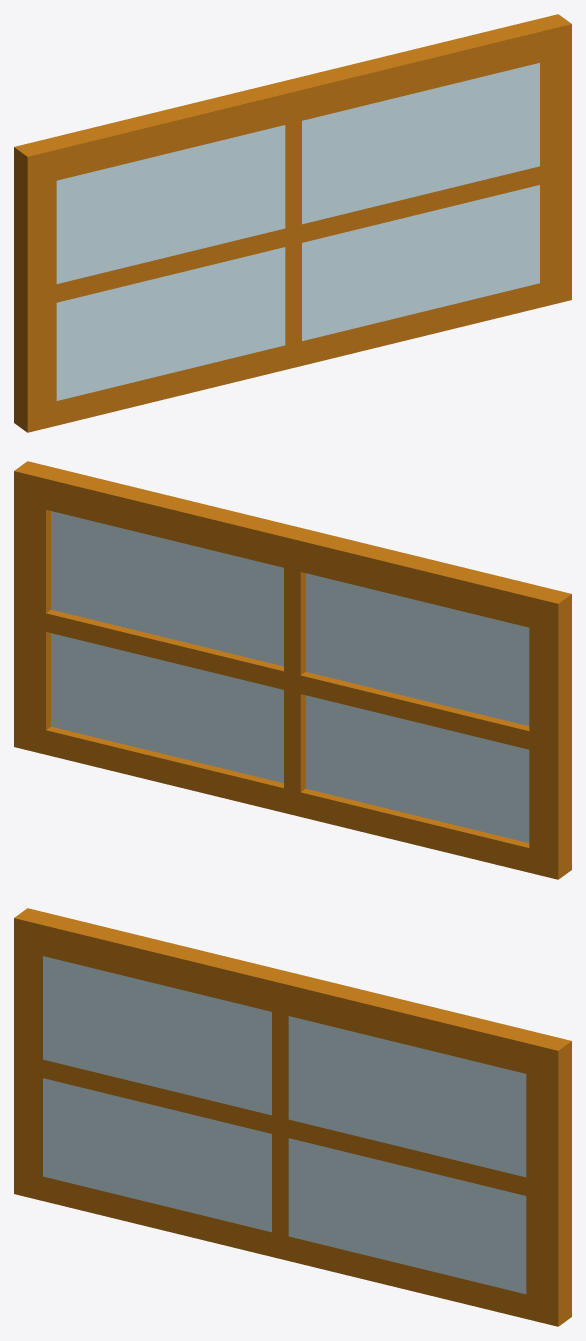
Rendered from ventana14.obj.
3 views of the same model, one above another, from view 1: azimuth 30°, elevation 25°; view 2: azimuth 150°, elevation 25°; view 3: azimuth 330°, elevation 25° (orthographic).
Visible parts, largest first — view 1: pasted__pasted__pCube17 pasted__group37 group39; view 2: pasted__pasted__pCube17 pasted__group37 group39; view 3: pasted__pasted__pCube17 pasted__group37 group39.
Part boxes in pixels (box(x1,y1,x2,y2)): pasted__pasted__pCube17 pasted__group37 group39: box(14, 14, 571, 432); pasted__pasted__pCube17 pasted__group37 group39: box(14, 461, 571, 879); pasted__pasted__pCube17 pasted__group37 group39: box(14, 908, 571, 1326).
Bounding box in the file's own units: 2.34 × 1.14 × 0.1014.
Materials: 1 (1 with a texture image).
